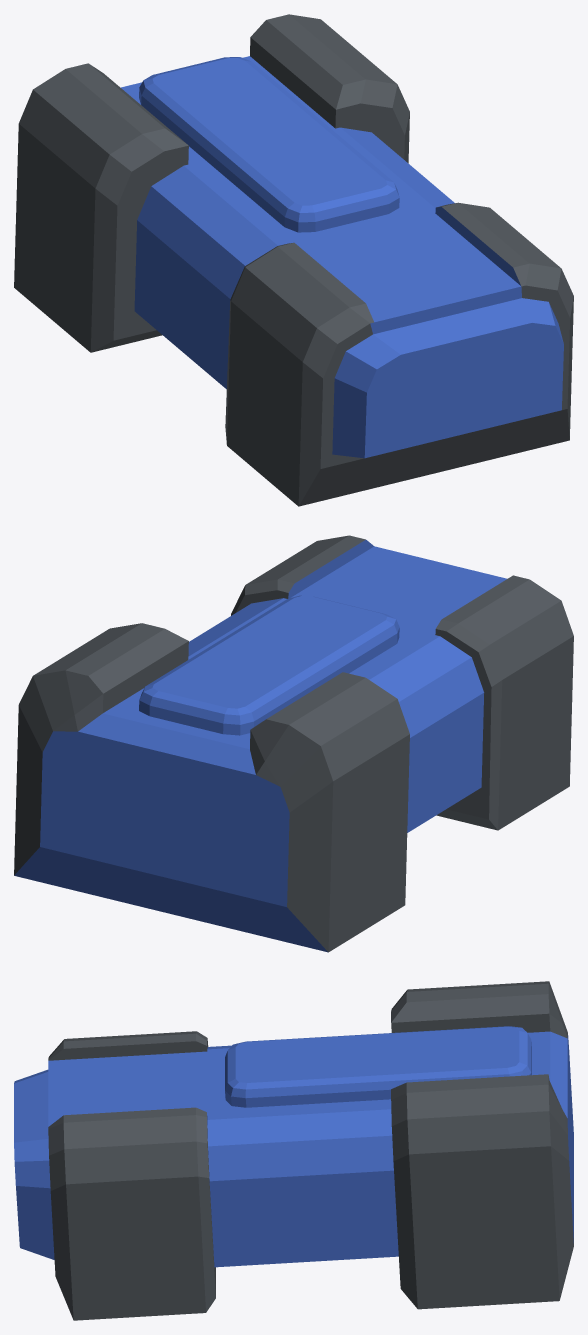
Rendered from Fighter_04_Hatch_Blue.fbx.
3 renders of one model, top to bottom at view 1: azimuth 30°, elevation 25°; view 2: azimuth 150°, elevation 25°; view 3: azimuth 270°, elevation 25°, orthographic. The views are drawn at different scales.
Parts seen in each view (by area): view 1: Fighter_04_Hatch_Blue; view 2: Fighter_04_Hatch_Blue; view 3: Fighter_04_Hatch_Blue.
Boxes of the visible parts, bbox=[...] form: Fighter_04_Hatch_Blue: bbox=[14, 14, 573, 506]; Fighter_04_Hatch_Blue: bbox=[14, 535, 573, 952]; Fighter_04_Hatch_Blue: bbox=[14, 981, 573, 1320].
Size of the model in its own units: 176 by 130 by 293.
1 material, 1 textured.
